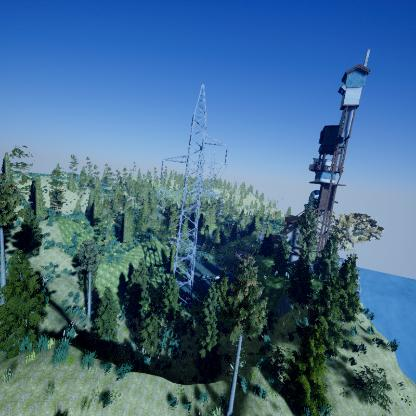tower: (155, 80, 237, 310)
